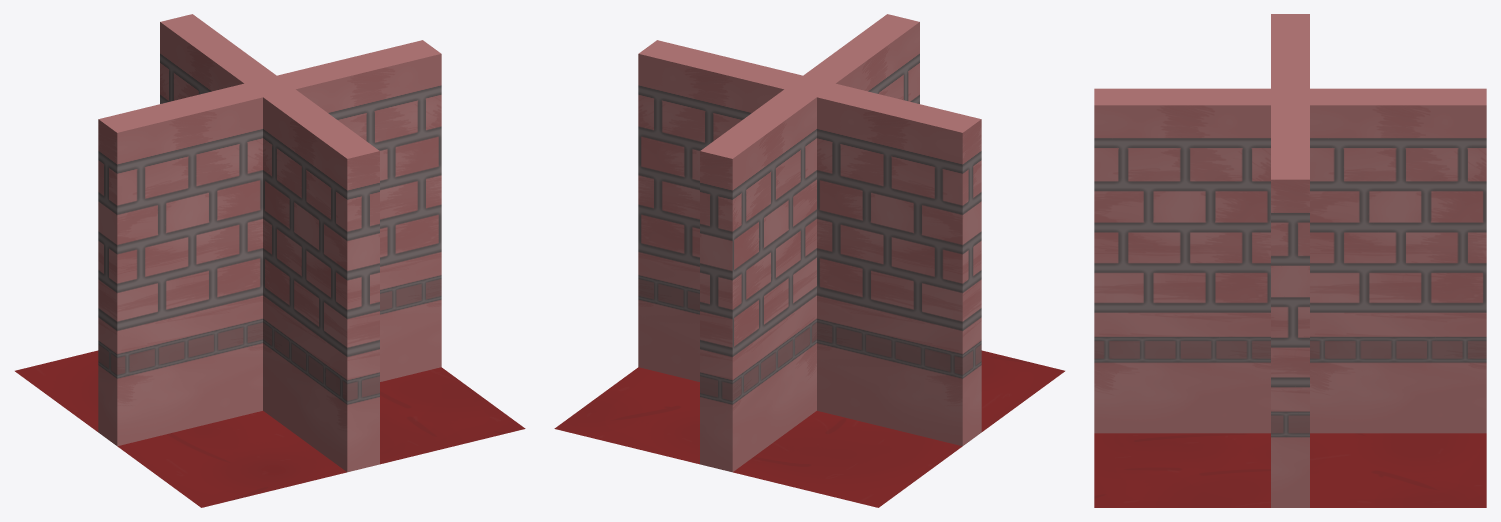
Rendered from WallFourWay.fbx.
The picture shows the model from 3 angles, left to right: view 1: azimuth 30°, elevation 25°; view 2: azimuth 150°, elevation 25°; view 3: azimuth 270°, elevation 25°; orthographic projection. The views are drawn at different scales.
Visible parts, largest first — view 1: Wall_Quad; view 2: Wall_Quad; view 3: Wall_Quad.
Boxes of the visible parts, bbox=[...] form: Wall_Quad: bbox=[15, 14, 525, 507]; Wall_Quad: bbox=[554, 14, 1064, 507]; Wall_Quad: bbox=[1094, 14, 1486, 507].
Bounding box in the file's own units: 297 × 275 × 297.
